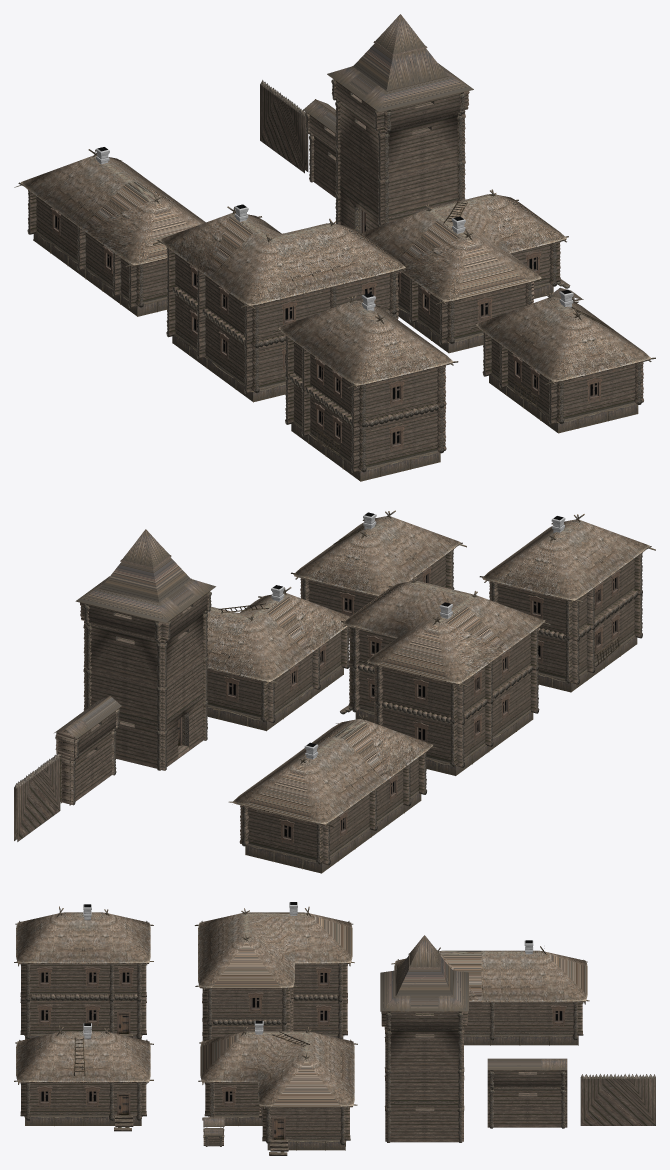
The model's file is medieval_log_buildings.glb.
3 views of the same model, one above another, from view 1: azimuth 30°, elevation 25°; view 2: azimuth 150°, elevation 25°; view 3: azimuth 270°, elevation 25° (orthographic). The views are drawn at different scales.
Visible parts, largest first — view 1: House_5, House_4, Object005_Mat_city_0, House_2, House_3, House_1, Object006_Mat_city_0, Wall_tip_A; view 2: House_5, Object005_Mat_city_0, House_3, House_4, House_2, House_1, Wall_tip_A, Object006_Mat_city_0; view 3: House_5, House_2, House_4, Object005_Mat_city_0, House_1, House_3, Wall_tip_A, Object006_Mat_city_0, well.
Part boxes in pixels (x1,y1,x2,y2): House_5: (153, 204, 407, 402); House_4: (273, 293, 458, 481); Object005_Mat_city_0: (327, 14, 473, 233); House_2: (361, 189, 570, 353); House_3: (14, 147, 205, 316); House_1: (471, 289, 655, 433); Object006_Mat_city_0: (260, 80, 308, 173); Wall_tip_A: (303, 99, 336, 197); House_5: (340, 576, 550, 775); Object005_Mat_city_0: (75, 529, 215, 770); House_3: (228, 714, 437, 873); House_4: (479, 514, 655, 692); House_2: (207, 585, 349, 731); House_1: (291, 510, 466, 637); Wall_tip_A: (54, 696, 121, 805); Object006_Mat_city_0: (14, 753, 60, 841); House_5: (194, 902, 354, 1040); House_2: (198, 1020, 357, 1155); House_4: (14, 904, 153, 1039); Object005_Mat_city_0: (380, 935, 468, 1142); House_1: (14, 1023, 153, 1131); House_3: (391, 940, 589, 1045); Wall_tip_A: (487, 1058, 567, 1128); Object006_Mat_city_0: (580, 1074, 655, 1125); well: (202, 1117, 225, 1146).
Size of the model in its own units: 3109 by 1814 by 5538.
1 material, 1 textured.
